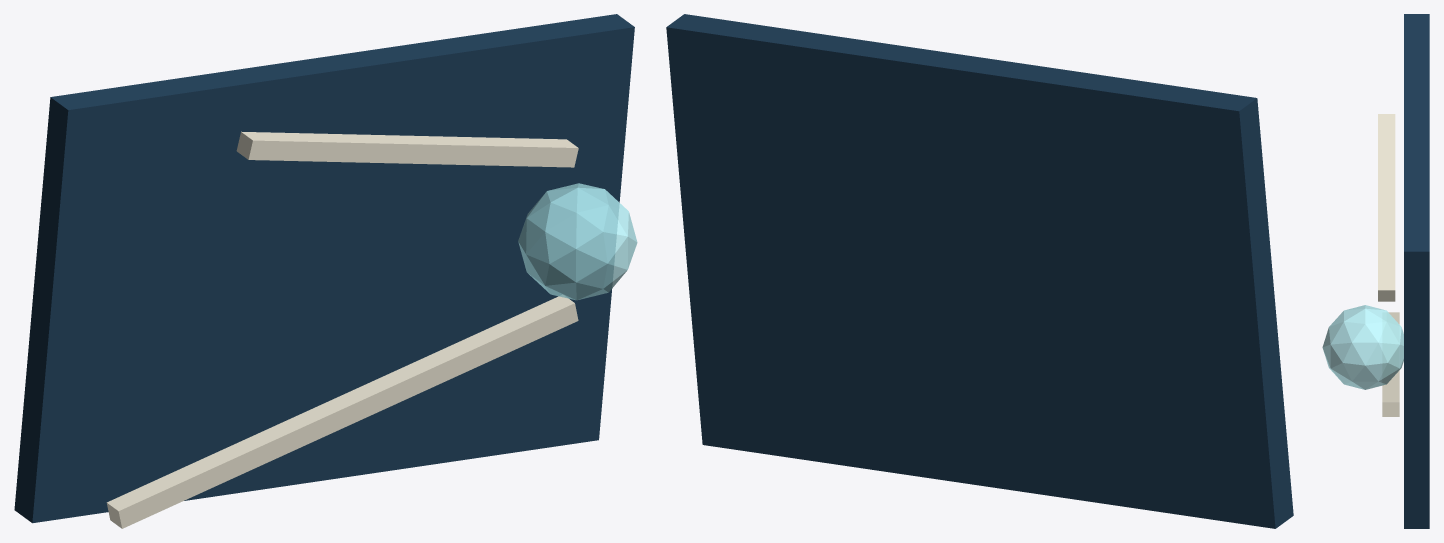
File: 02_world_prop_polish.glb
3 renders of one model, left to right at view 1: azimuth 30°, elevation 25°; view 2: azimuth 150°, elevation 25°; view 3: azimuth 270°, elevation 25°, orthographic. The views are drawn at different scales.
Visible parts, largest first — view 1: object_overlay_plate, edge_wear_a, glow_socket, edge_wear_b; view 2: object_overlay_plate; view 3: object_overlay_plate, glow_socket, edge_wear_b, edge_wear_a.
Boxes of the visible parts, left/top/right/bottom form: object_overlay_plate: left=14, top=14, right=634, bottom=523; edge_wear_a: left=106, top=295, right=578, bottom=528; glow_socket: left=518, top=183, right=637, bottom=300; edge_wear_b: left=236, top=131, right=578, bottom=167; object_overlay_plate: left=666, top=14, right=1293, bottom=528; object_overlay_plate: left=1404, top=14, right=1429, bottom=528; glow_socket: left=1322, top=305, right=1403, bottom=389; edge_wear_b: left=1378, top=114, right=1395, bottom=301; edge_wear_a: left=1382, top=312, right=1399, bottom=416.
Bounding box in the file's own units: 1.16 × 0.8487 × 0.25.
